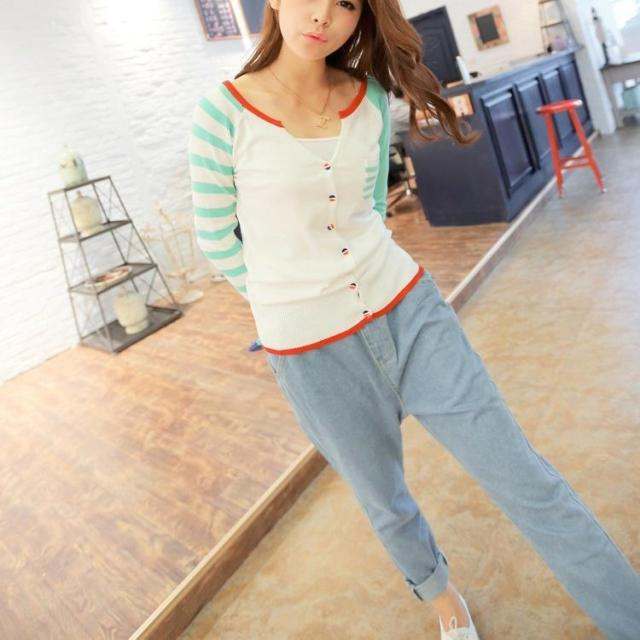long-sleeve-top: (178, 71, 444, 326)
trousers: (252, 346, 623, 611)
